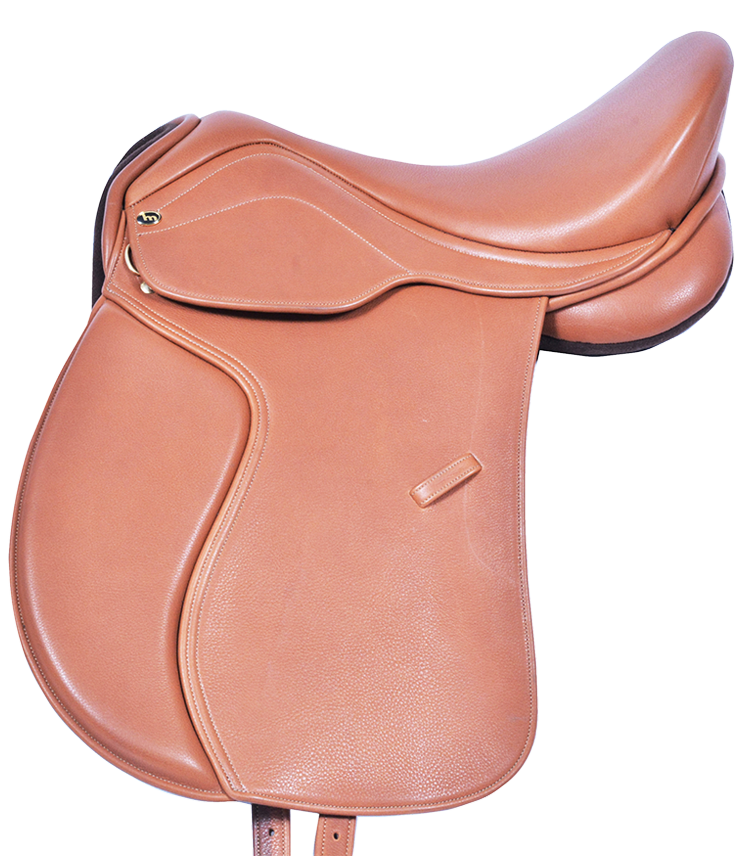saddle: (56, 46, 741, 710)
